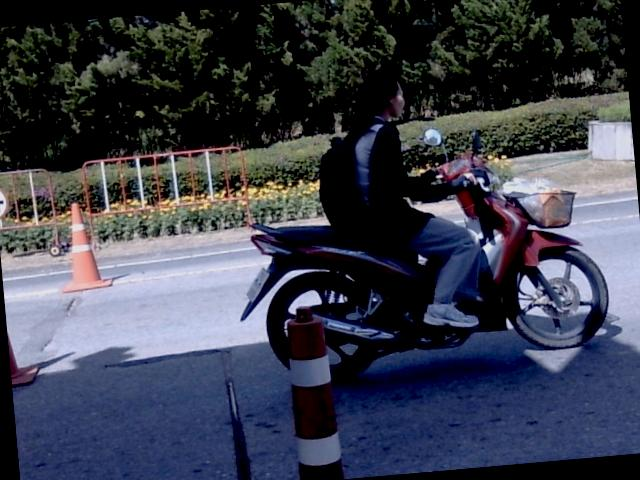helmet: (355, 67, 407, 122)
motor: (241, 130, 607, 381)
person: (335, 70, 481, 327)
